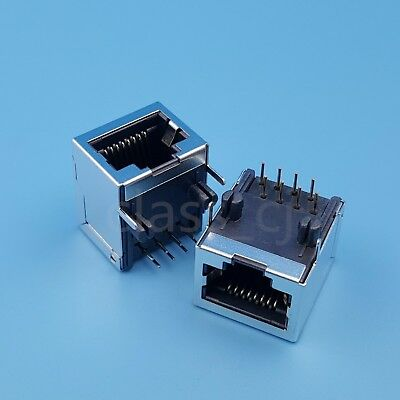lan: (193, 244, 298, 342), (73, 109, 212, 179)
